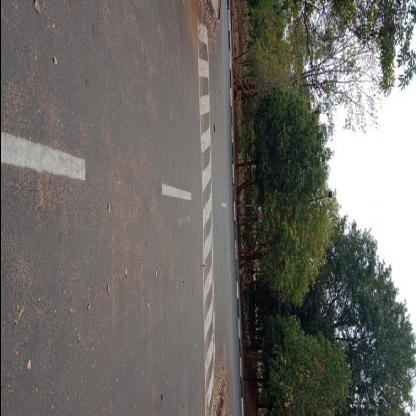speed-bumps: (193, 3, 221, 414)
